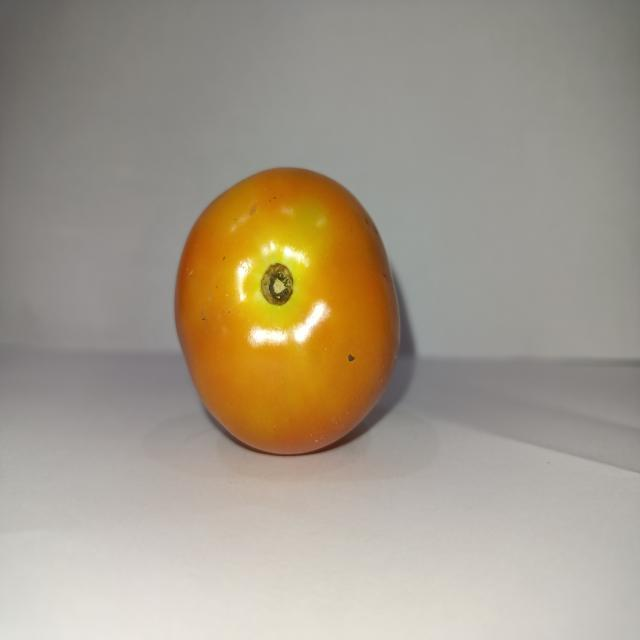Red: (172, 165, 401, 456)
